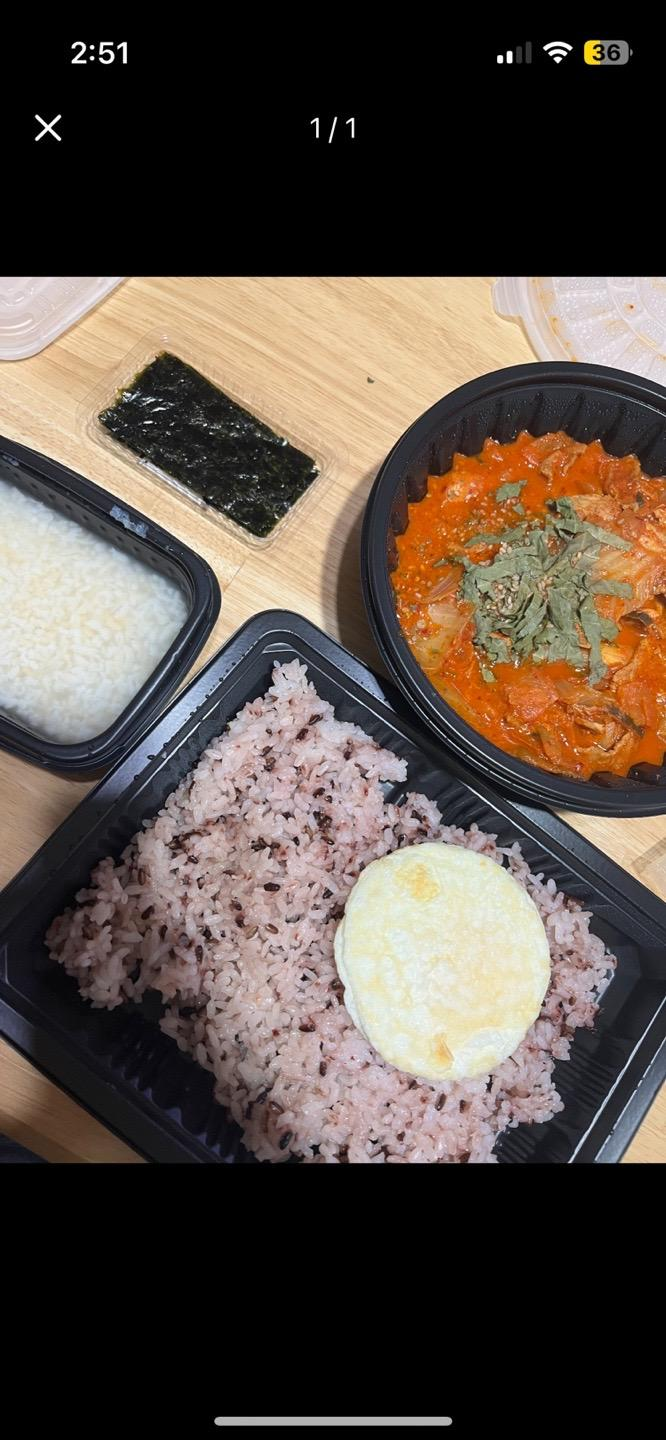Lunch Box: (0, 612, 665, 1163), (361, 362, 665, 817), (0, 438, 220, 778), (76, 324, 348, 554)
